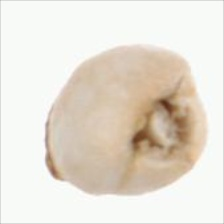L3: (130, 90, 194, 163)
L4: (44, 44, 209, 196)
